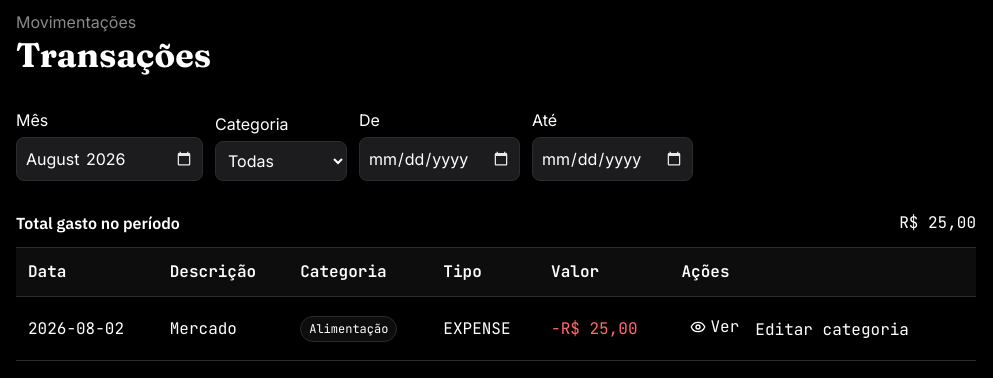
Scenario: TransactionsPage › shows positive total spent for category and complete dates without income offset
Check: the table is shown, box [16,248,976,361]
Select "Casa" in the dropdown labelled "Categoria" at coordinates (281, 161), box [215,141,347,181]
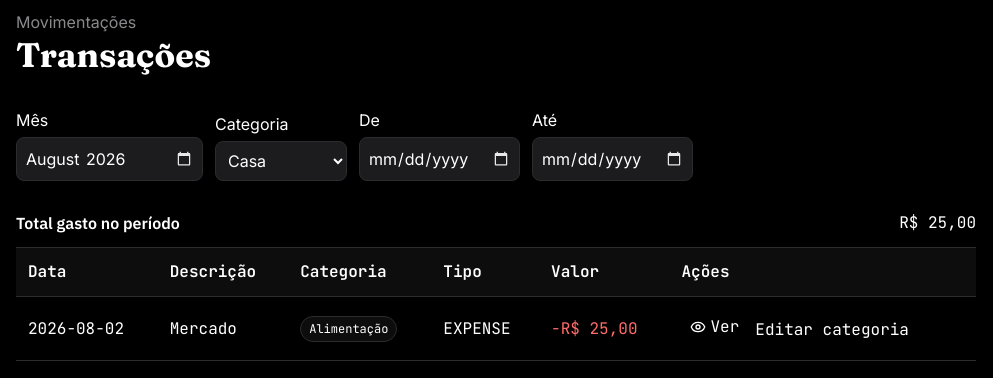
Check: the text "R$ 25,00" is shown, box [899,211,976,235]
Type "2026-08-01" into the date field labelled "De" at coordinates (440, 159), box [359,137,520,181]
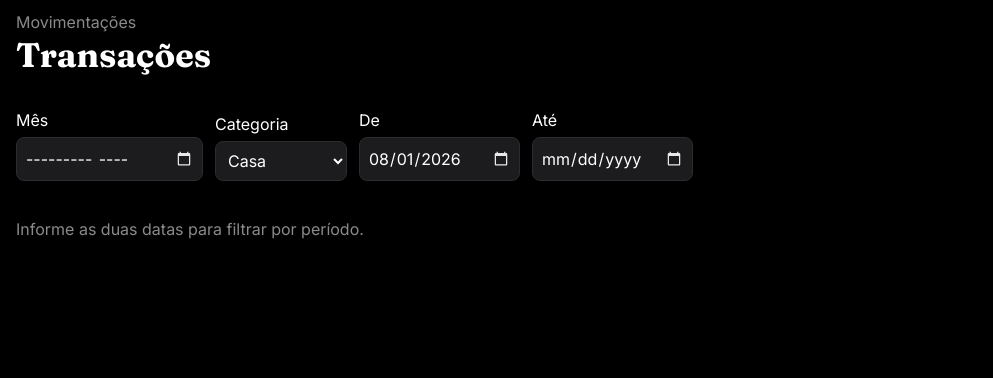
Type "2026-08-31" into the date field labelled "Até" at coordinates (612, 159), box [532,137,693,181]
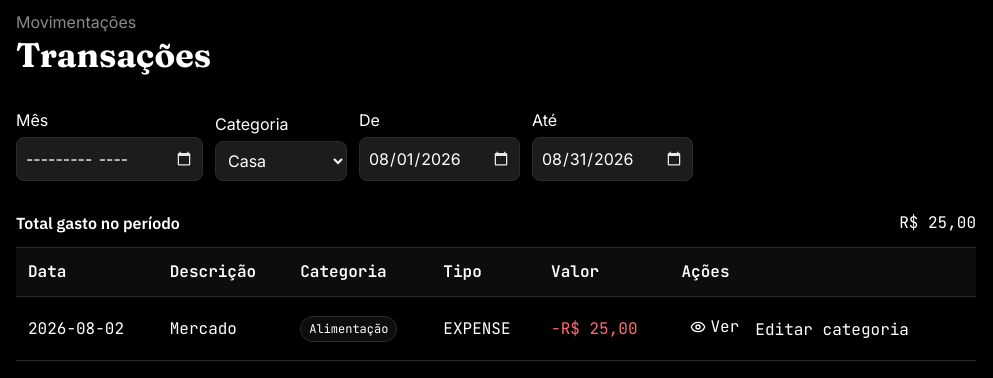
Check: the text "Total gasto no período" is shown, box [16,211,180,235]
